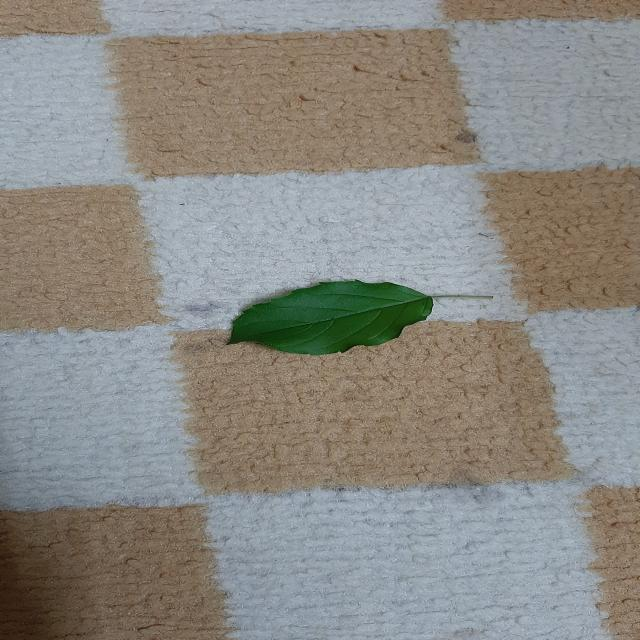tulsi: (228, 280, 436, 355)
